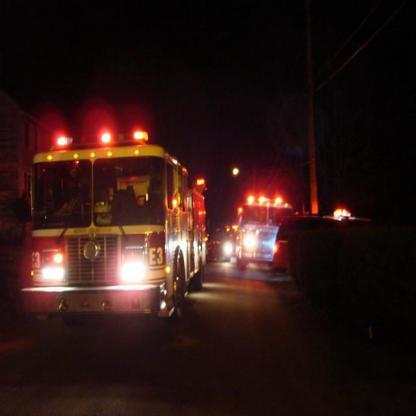other: (244, 186, 292, 209), (115, 258, 148, 286), (38, 251, 67, 280), (220, 233, 238, 264), (329, 203, 357, 222), (48, 128, 72, 150), (96, 122, 117, 147), (240, 228, 257, 250), (230, 159, 240, 177)
